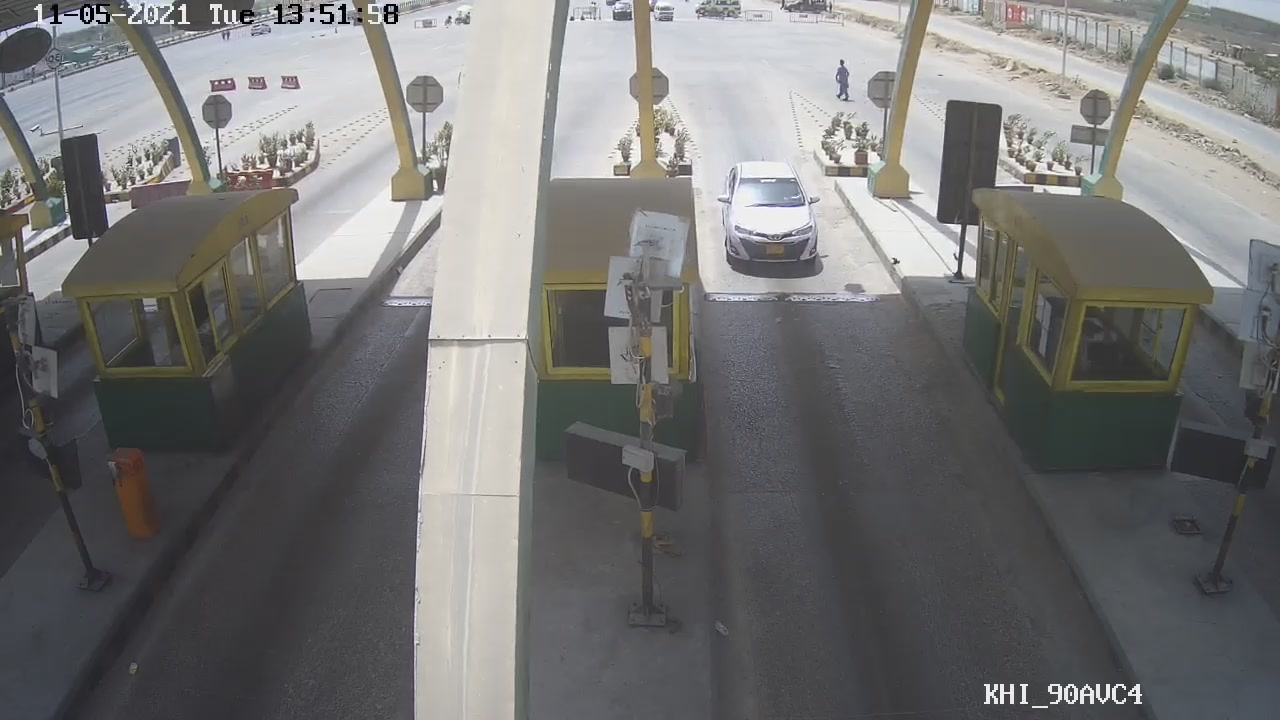F1: (715, 156, 826, 278)
